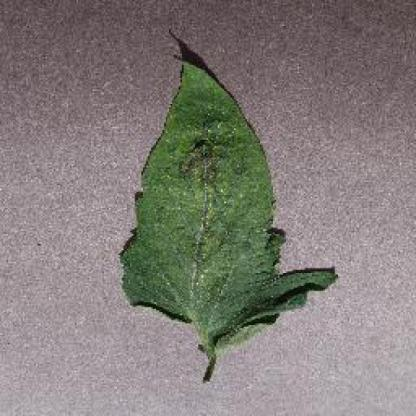Tomato_Spider_Mites: (122, 60, 338, 346)
